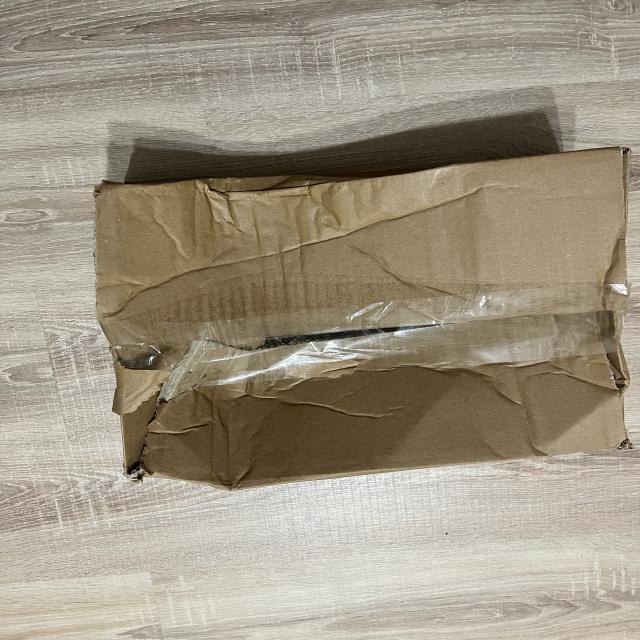damaged: (72, 148, 637, 490), (111, 328, 320, 490), (85, 154, 479, 223)
